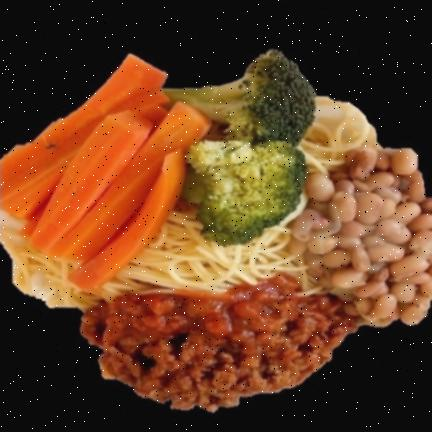beans: (291, 147, 432, 324)
broccoli: (167, 51, 315, 246)
carrot: (0, 56, 211, 291)
meat: (81, 276, 356, 411)
pasta: (1, 202, 321, 310), (302, 98, 380, 174)
